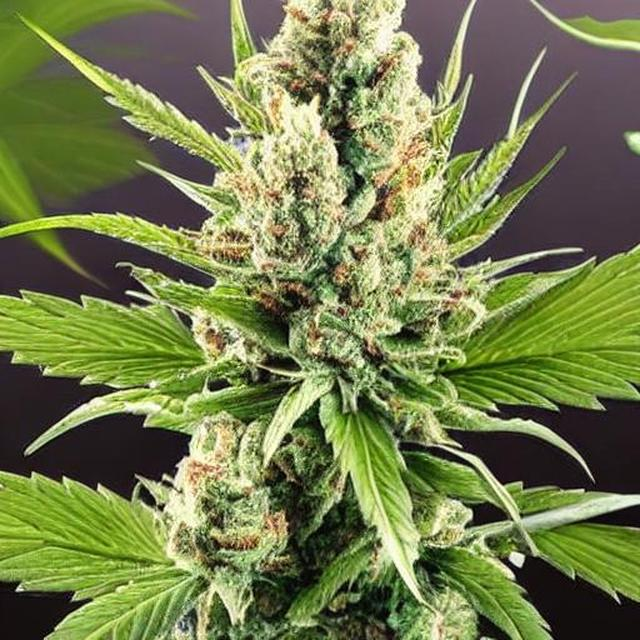Marijuana Joint: (133, 53, 501, 626)
